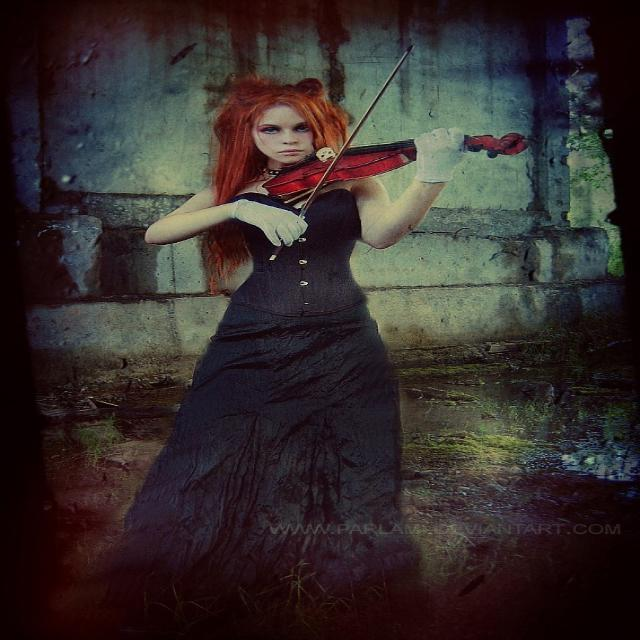violin: (262, 130, 538, 198)
